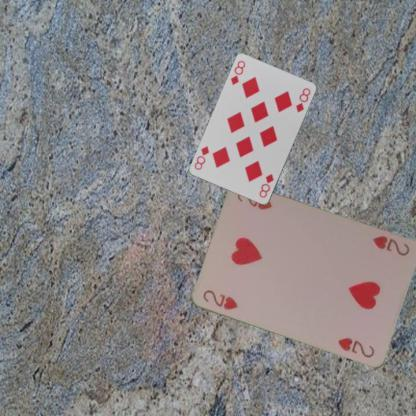2h: (370, 232, 410, 258), (199, 287, 240, 312)
8d: (228, 58, 247, 86), (257, 170, 275, 199)
